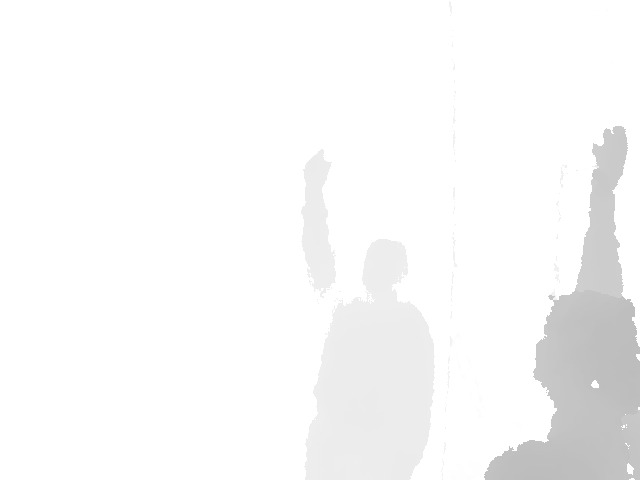hand: (591, 124, 628, 191), (303, 148, 332, 184)
head: (534, 292, 640, 427), (361, 237, 409, 299)
person: (482, 123, 640, 480), (300, 148, 436, 480)
